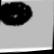correct: (0, 0, 36, 30)
